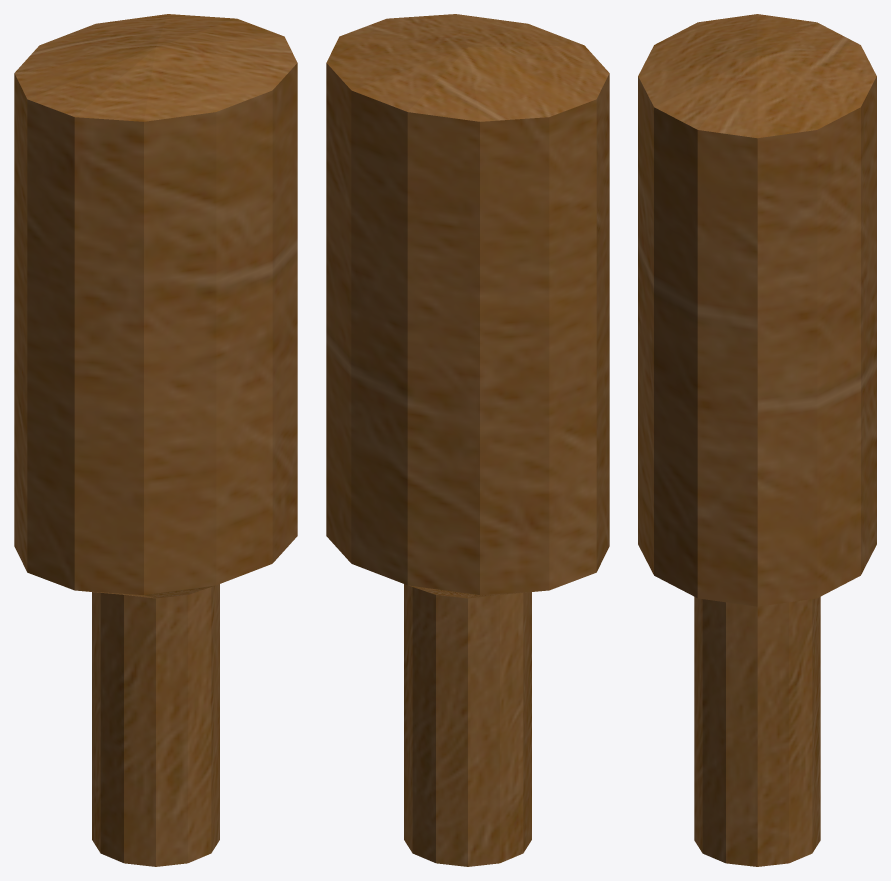
The model's file is wood.obj.
3 views of the same model, side by side, from view 1: azimuth 30°, elevation 25°; view 2: azimuth 150°, elevation 25°; view 3: azimuth 270°, elevation 25° (orthographic).
Visible parts, largest first — view 1: 円; view 2: 円; view 3: 円.
Boxes of the visible parts, <box> form: 円: <box>14,14,297,866</box>; 円: <box>326,14,609,866</box>; 円: <box>638,14,876,866</box>.
Bounding box in the file's own units: 1.74 × 5.13 × 1.42.
Materials: 1 (1 with a texture image).
